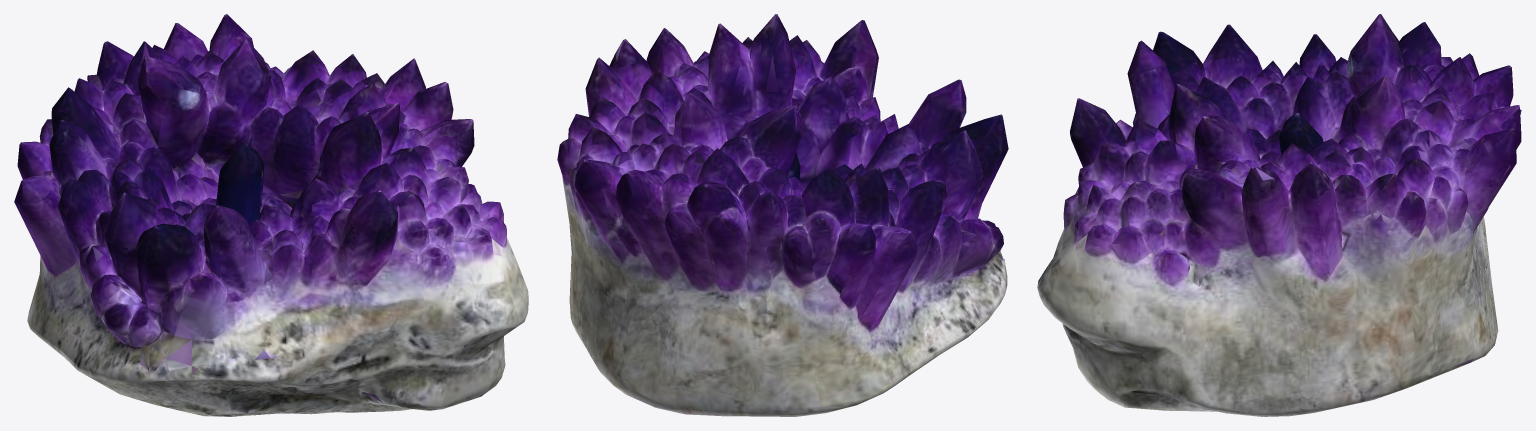
The model's file is amethyst.glb.
3 renders of one model, left to right at view 1: azimuth 30°, elevation 25°; view 2: azimuth 150°, elevation 25°; view 3: azimuth 270°, elevation 25°, orthographic.
Parts seen in each view (by area): view 1: amethyst; view 2: amethyst; view 3: amethyst.
Part boxes in pixels (box(x1,y1,x2,y2)): amethyst: box(14, 14, 528, 416); amethyst: box(557, 14, 1008, 416); amethyst: box(1037, 14, 1521, 416).
Bounding box in the file's own units: 0.9028 × 0.7073 × 1.
1 material, 1 textured.
